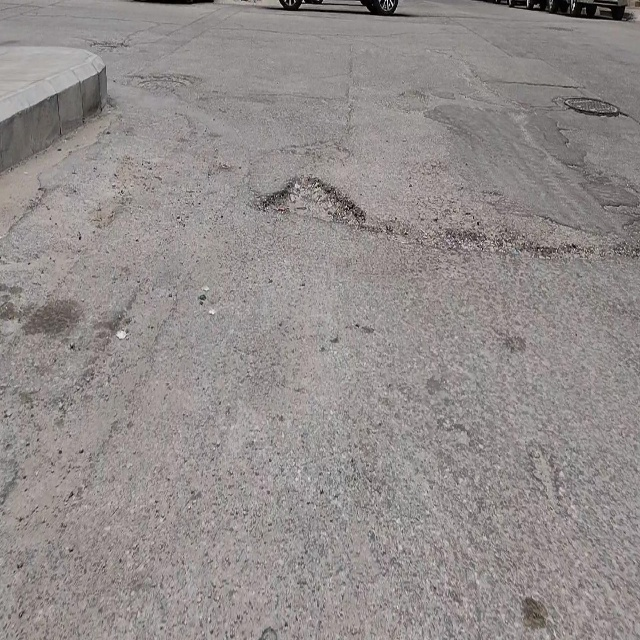pothole: (262, 172, 368, 231)
